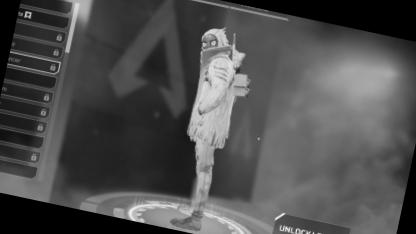Target: (168, 20, 260, 192)
